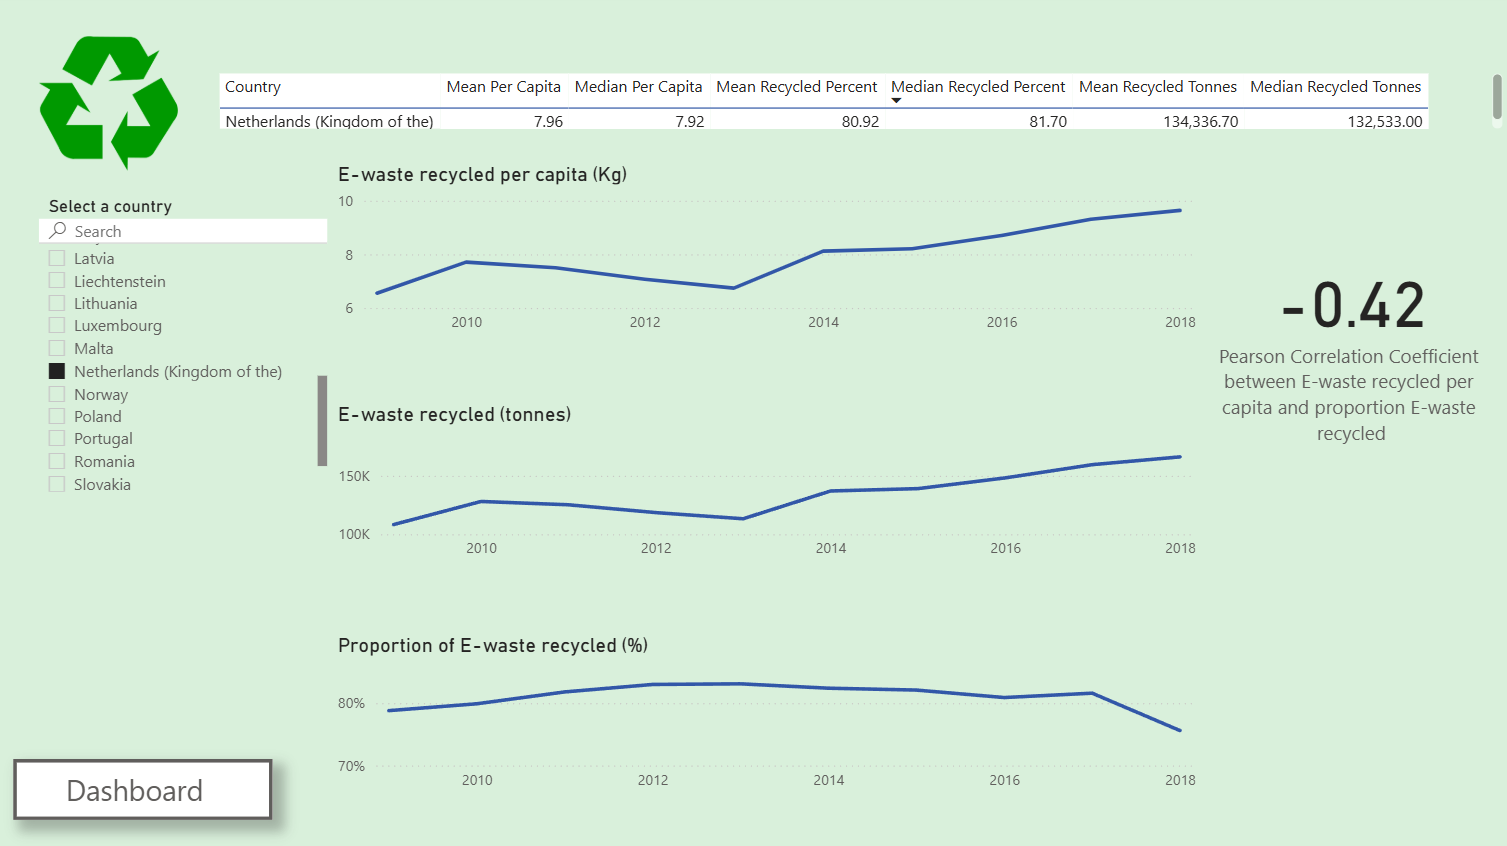

The page's visual inventory and layout, read from the dashboard file:
{"tool":"powerbi","page":{"name":"Countries","canvas":[1280,720],"ordinal":2},"visuals":[{"type":"image","box":[30,28.3,126.7,126.7],"z":0},{"type":"tableEx","fields":{"Values":["Electronic Waste Recycled Countries.GeoAreaName","Electronic Waste Recycled Countries.Mean_Per_Capita_Kg","Electronic Waste Recycled Countries.Median_Per_Capita_Kg","Electronic Waste Recycled Countries.Mean_Recycled_Percent","Electronic Waste Recycled Countries.Median_Recycled_Percent","Electronic Waste Recycled Countries.Mean_Recycled_Tonnes","Electronic Waste Recycled Countries.Median_Recycled_Tonnes"]},"box":[180.9,61.8,1090.9,56.4],"z":1000},{"type":"slicer","fields":{"Values":["Electronic Waste Recycled Countries.GeoAreaName"]},"box":[30.1,164.9,251.8,258.9],"z":2000},{"type":"card","fields":{"Values":["Electronic Waste Recycled Countries.Pearson Correlation Coefficient between E-waste recycled per capita and proportion E"]},"box":[1013.6,118.2,251.8,295.5],"z":3000},{"type":"lineChart","title":"E-waste recycled per capita (Kg)","fields":{"Y":["Avg(Electronic Waste Recycled Countries.E-waste_recycled_per_capita_Kg)"],"Category":["Electronic Waste Recycled Countries.Year"]},"box":[282,141,731.5,153.4],"z":4000},{"type":"lineChart","title":"E-waste recycled (tonnes) ","fields":{"Y":["Avg(Electronic Waste Recycled Countries.E_waste_recycled_tonnes)"],"Category":["Electronic Waste Recycled Countries.Year"]},"box":[282,342.3,731.5,141.9],"z":5000},{"type":"lineChart","title":"Proportion of E-waste recycled (%)","fields":{"Category":["Electronic Waste Recycled Countries.Year"],"Y":["Avg(Electronic Waste Recycled Countries.Proportion_e_waste_recycled_percent)"]},"box":[282,537.3,731.5,141.9],"z":6000},{"type":"actionButton","box":[13.3,643.7,218.1,51.4],"z":7000}]}

Visuals, with their boxes in screenshot pixels (x1, y1, x2, y2), scaled from the page's 1280x720 canvas onto the 1507x846 screenshot:
image: bbox(35, 33, 184, 182)
tableEx - Electronic Waste Recycled Countries.GeoAreaName x Electronic Waste Recycled Countries.Mean_Per_Capita_Kg: bbox(213, 73, 1497, 139)
slicer - Electronic Waste Recycled Countries.GeoAreaName: bbox(35, 194, 332, 498)
card - Electronic Waste Recycled Countries.Pearson Correlation Coefficient between E-waste recycled per capita and proportion E: bbox(1193, 139, 1490, 486)
"E-waste recycled per capita (Kg)" lineChart: bbox(332, 166, 1193, 346)
"E-waste recycled (tonnes) " lineChart: bbox(332, 402, 1193, 569)
"Proportion of E-waste recycled (%)" lineChart: bbox(332, 631, 1193, 798)
actionButton: bbox(16, 756, 272, 817)
